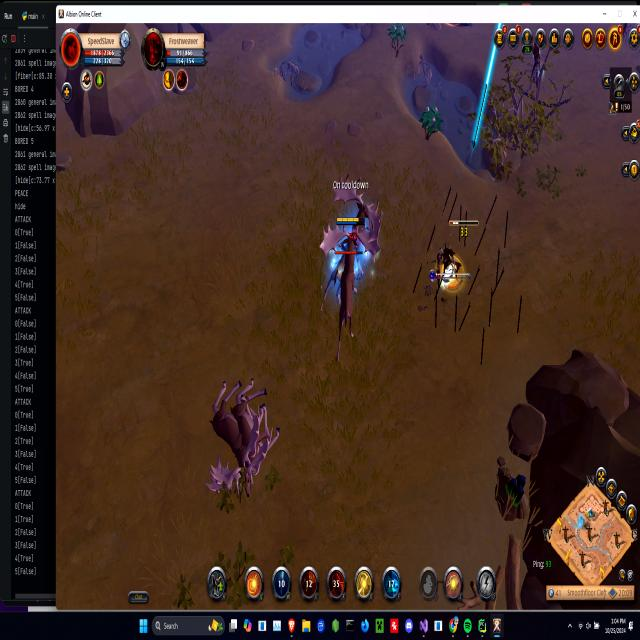hide: (419, 102, 444, 140), (388, 21, 408, 54)
mob: (198, 363, 284, 504)
ore: (314, 177, 383, 369), (432, 216, 480, 290), (530, 43, 546, 90)
red: (336, 213, 362, 269)
